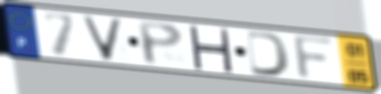7: (41, 11, 78, 58)
D: (244, 29, 294, 79)
F: (291, 33, 338, 82)
H: (186, 24, 235, 75)
P: (135, 20, 186, 67)
V: (78, 14, 127, 63)
